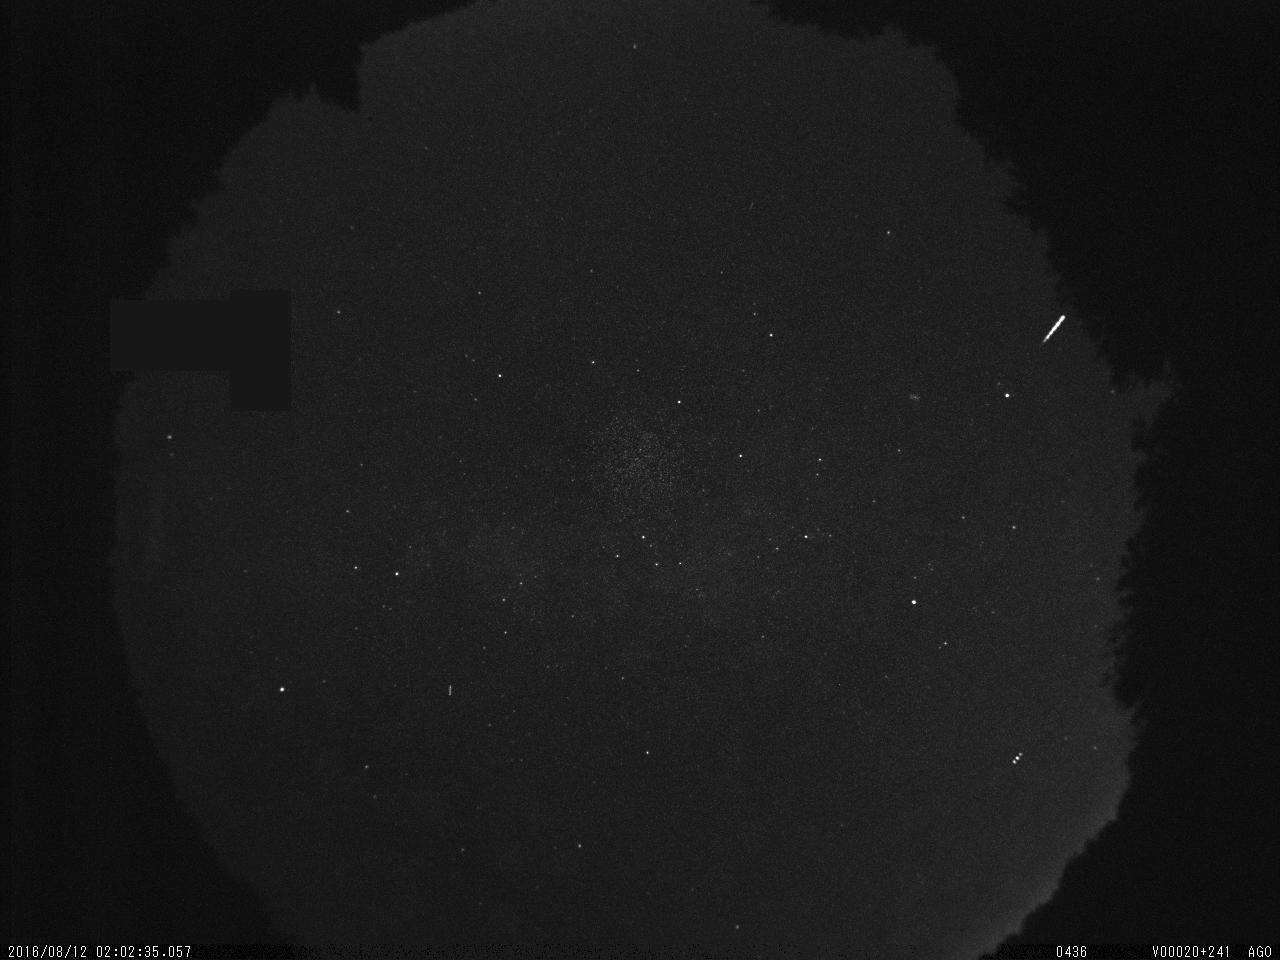meteor: (1038, 303, 1074, 357)
